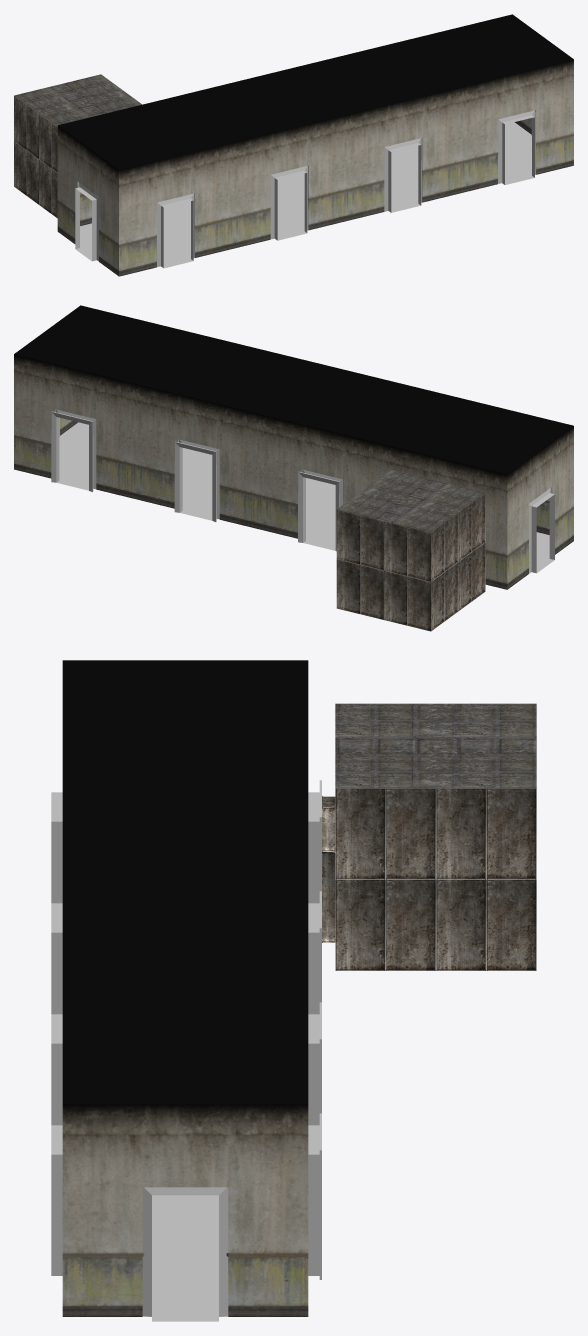
Rendered from PaddedRooms.FBX.
The picture shows the model from 3 angles, top to bottom: view 1: azimuth 30°, elevation 25°; view 2: azimuth 150°, elevation 25°; view 3: azimuth 270°, elevation 25°; orthographic projection. The views are drawn at different scales.
Parts seen in each view (by area): view 1: Hall_PaddedRooms, PaddedRoom; view 2: Hall_PaddedRooms, PaddedRoom; view 3: Hall_PaddedRooms, PaddedRoom.
Boxes of the visible parts, box(x1,y1,x2,y2) form: Hall_PaddedRooms: box(57, 14, 573, 276); PaddedRoom: box(14, 74, 141, 218); Hall_PaddedRooms: box(14, 305, 573, 589); PaddedRoom: box(336, 470, 485, 631); Hall_PaddedRooms: box(51, 660, 321, 1321); PaddedRoom: box(322, 703, 536, 970).
Size of what is drawn, in the model's own units: 1890 by 413 by 854.
